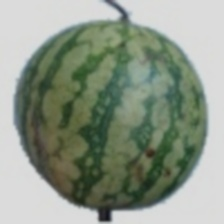watermelon: (60, 44, 203, 181)
